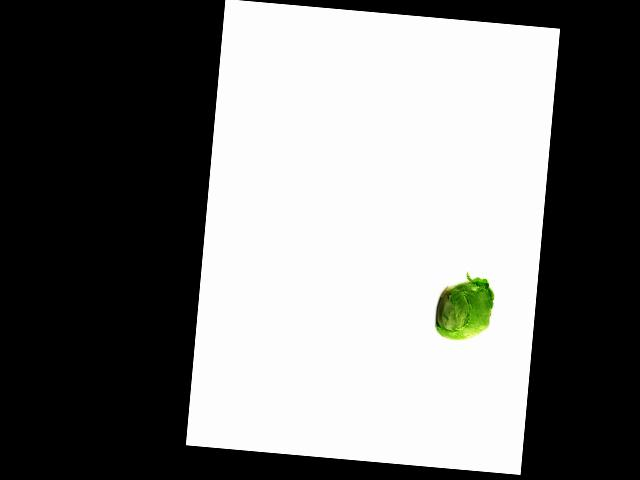lettuce: (431, 276, 497, 345)
